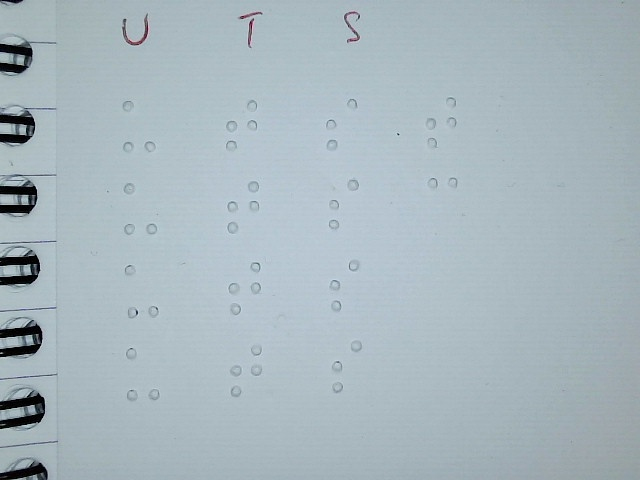S: (323, 96, 359, 152), (326, 176, 362, 232), (326, 257, 362, 313), (329, 338, 365, 394)
T: (224, 97, 260, 153), (225, 178, 261, 234), (227, 259, 263, 315), (228, 342, 264, 398)
U: (123, 262, 161, 318), (124, 345, 162, 401), (121, 98, 157, 154), (122, 181, 158, 237)
